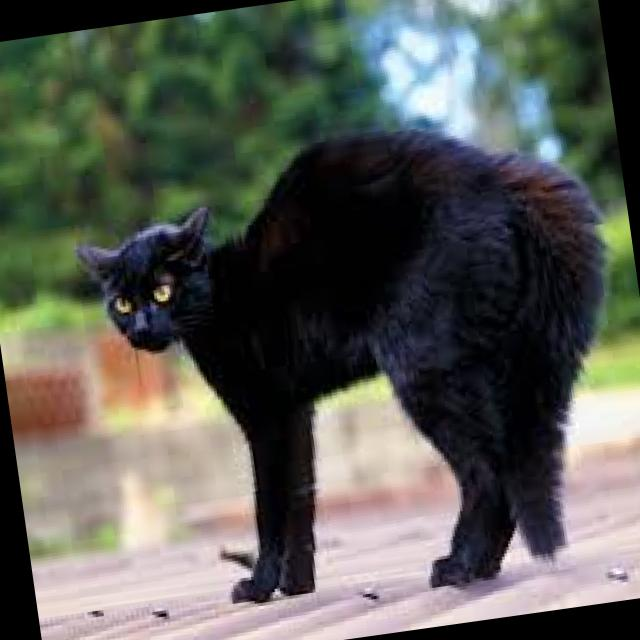CAT: (60, 96, 640, 634)
